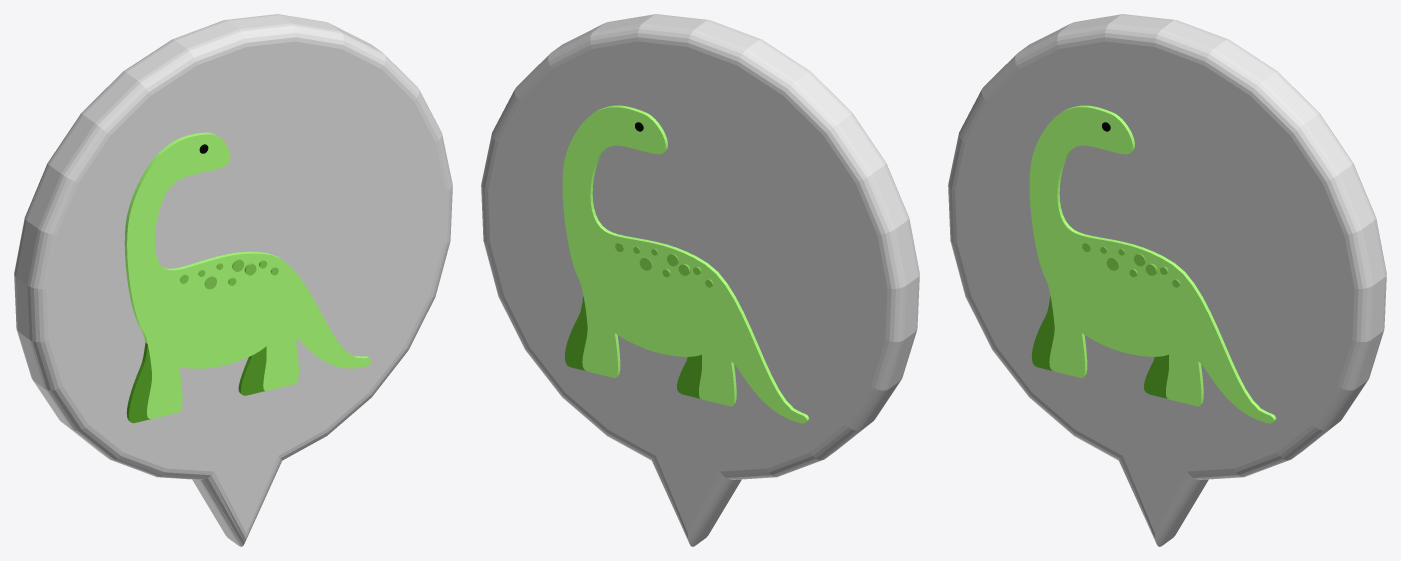
File: sauropod.glb
3 renders of one model, left to right at view 1: azimuth 30°, elevation 25°; view 2: azimuth 150°, elevation 25°; view 3: azimuth 330°, elevation 25°, orthographic.
Visible parts, largest first — view 1: EmotionBubble; view 2: EmotionBubble; view 3: EmotionBubble.
Boxes of the visible parts, x1,y1,x2,y2 form: EmotionBubble: (14, 14, 452, 546); EmotionBubble: (481, 14, 919, 546); EmotionBubble: (948, 14, 1386, 546).
Bounding box in the file's own units: 5.29 × 6.16 × 0.742.
